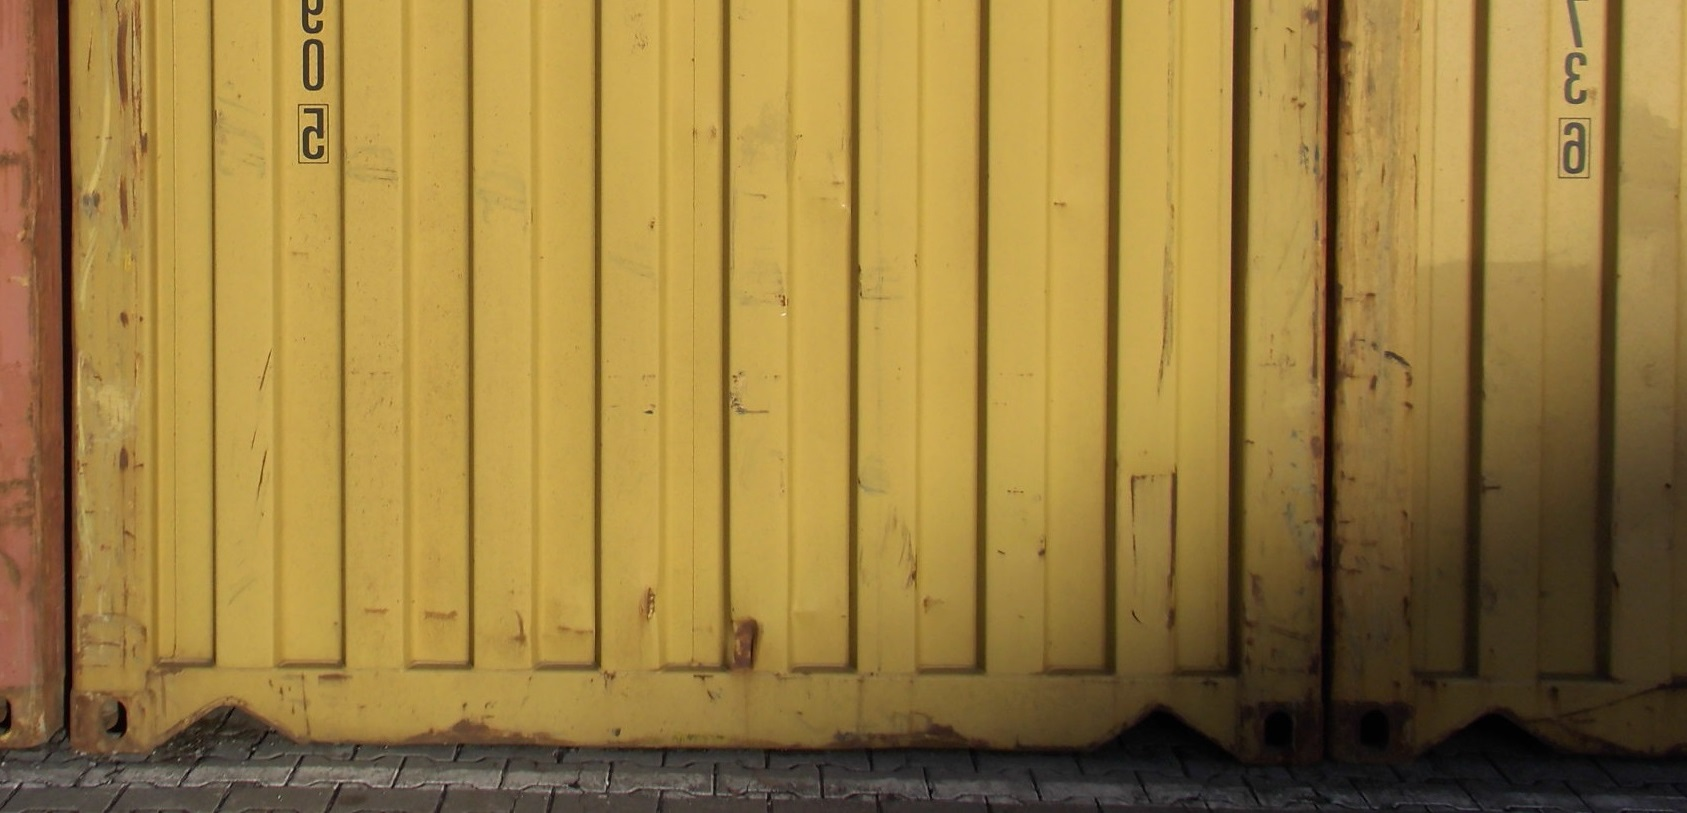container_no_door: (72, 18, 1333, 750)
